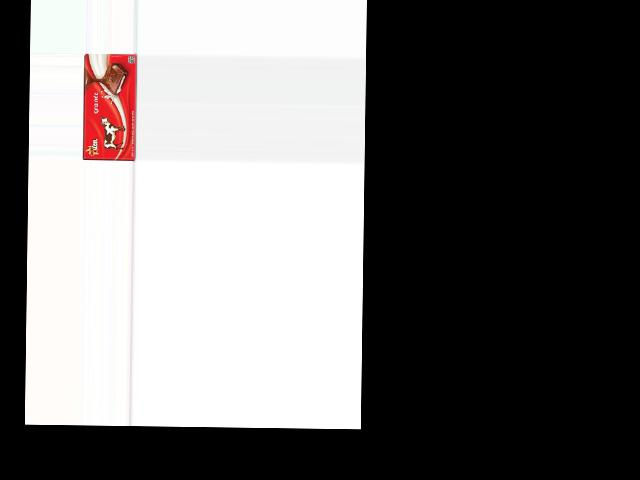chocolate: (82, 53, 137, 162)
